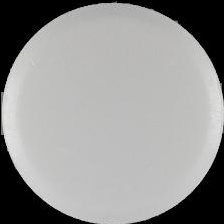23155-227: (0, 0, 224, 224)
